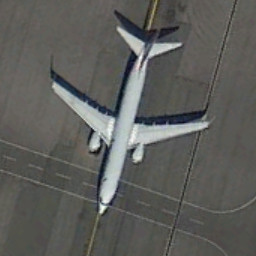Airplane: (48, 16, 219, 223)
